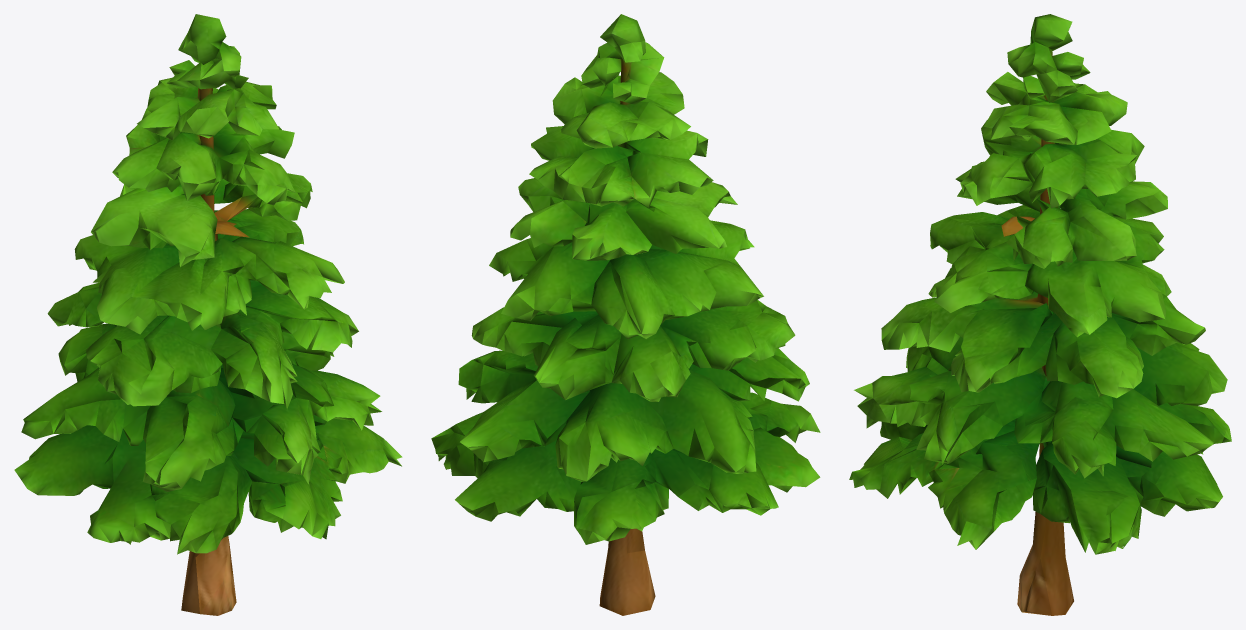
Rendered from fir_tree.glb.
3 renders of one model, left to right at view 1: azimuth 30°, elevation 25°; view 2: azimuth 150°, elevation 25°; view 3: azimuth 270°, elevation 25°, orthographic.
Parts seen in each view (by area): view 1: model; view 2: model; view 3: model.
Part boxes in pixels (box(x1,y1,x2,y2)): model: box(14, 14, 402, 615); model: box(431, 14, 820, 615); model: box(849, 14, 1231, 615).
Bounding box in the file's own units: 1.12 × 1.89 × 1.11.
Materials: 1 (1 with a texture image).
